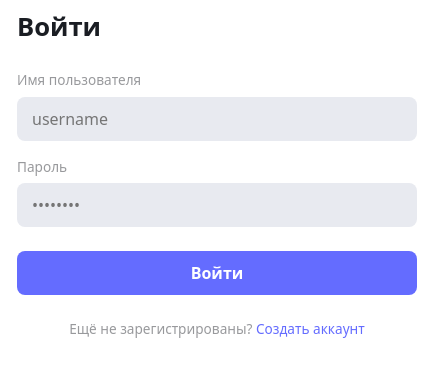
Test: SignInPage › shows error message on failed login
In the field with placeholder "username": (217, 119) [17,97,417,141], type "alice"
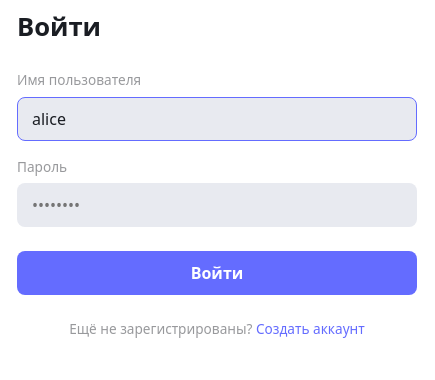
In the password field with placeholder "••••••••": (217, 205) [17,183,417,227], type "wrong"
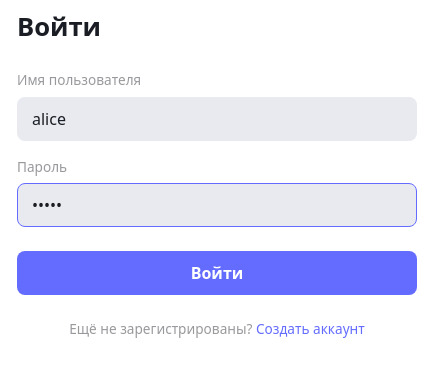
Click the button "Войти": (217, 273) [17,251,417,295]
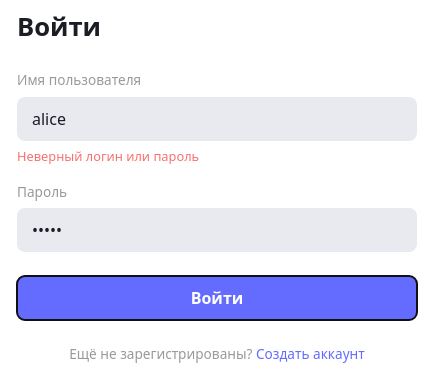
Check: the text "Неверный логин или пароль" is shown, box [17,147,199,165]
